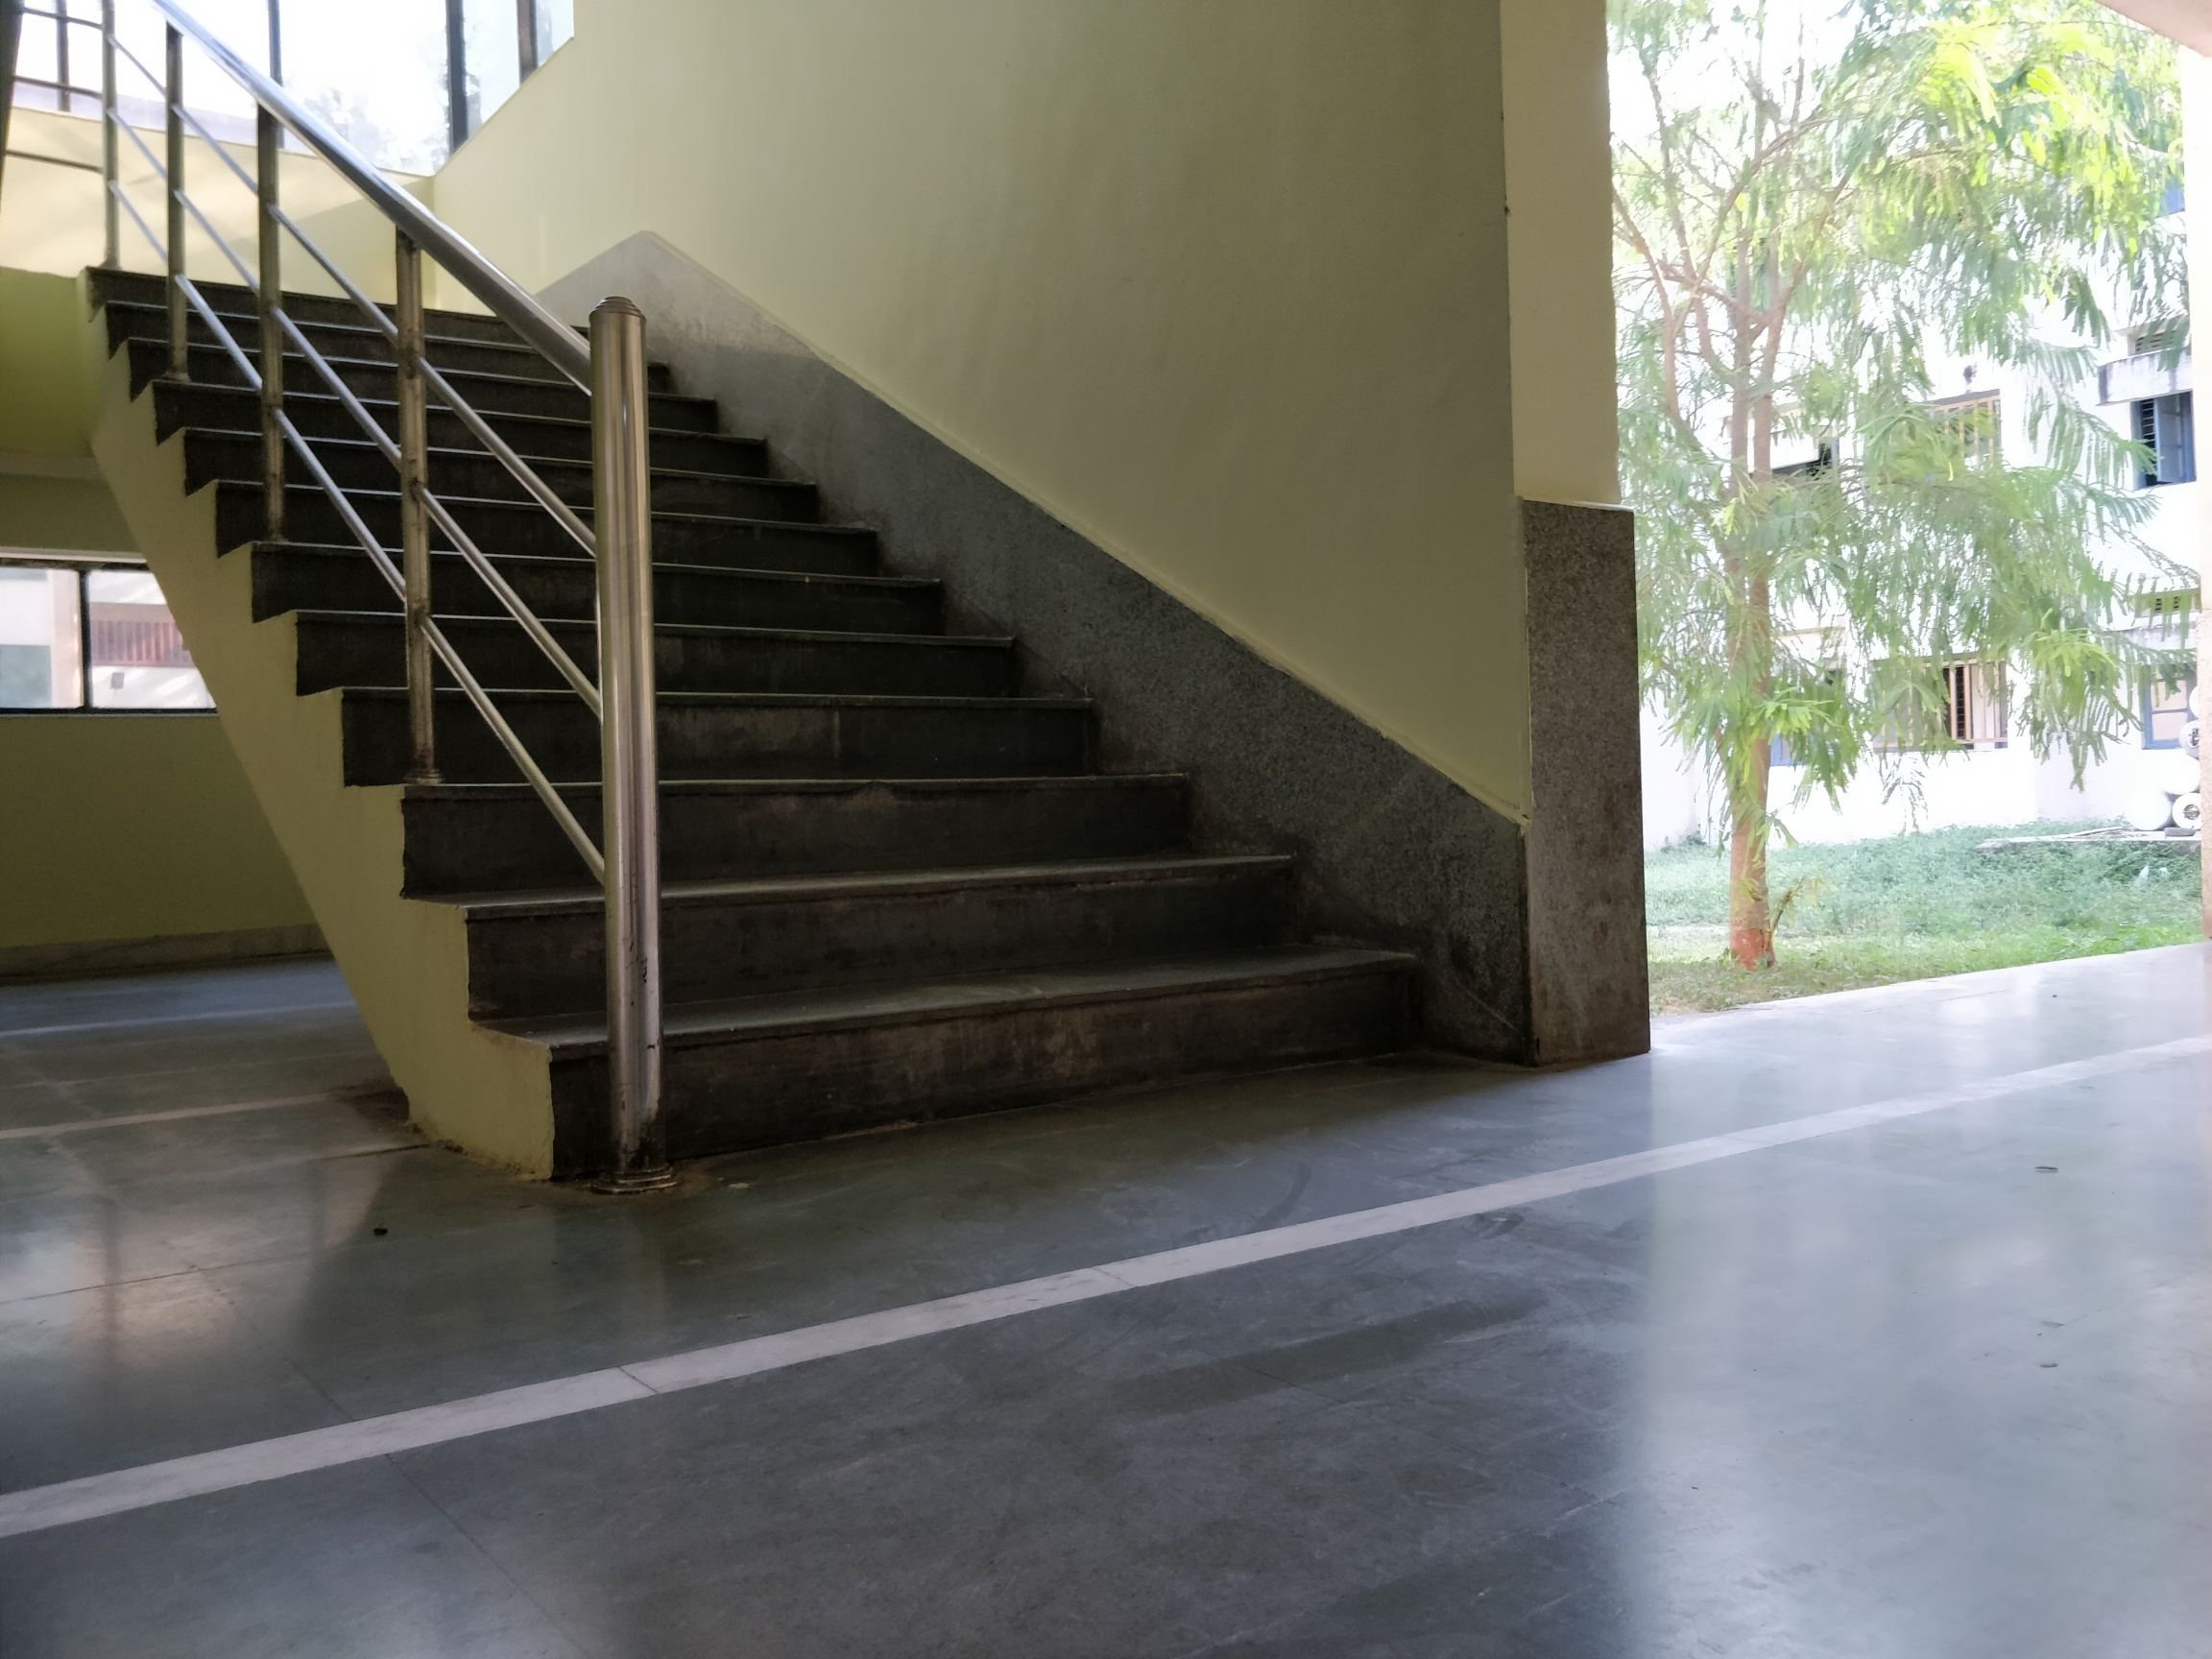stairs_up: (68, 260, 1468, 1182)
